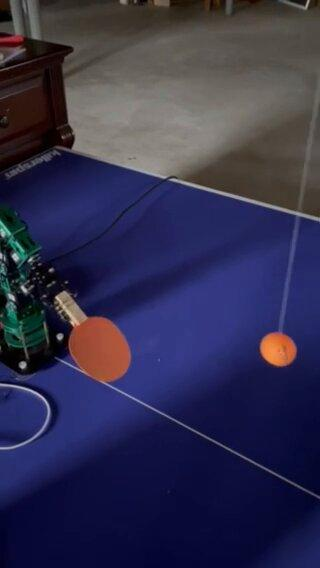oball: (260, 332, 297, 366)
